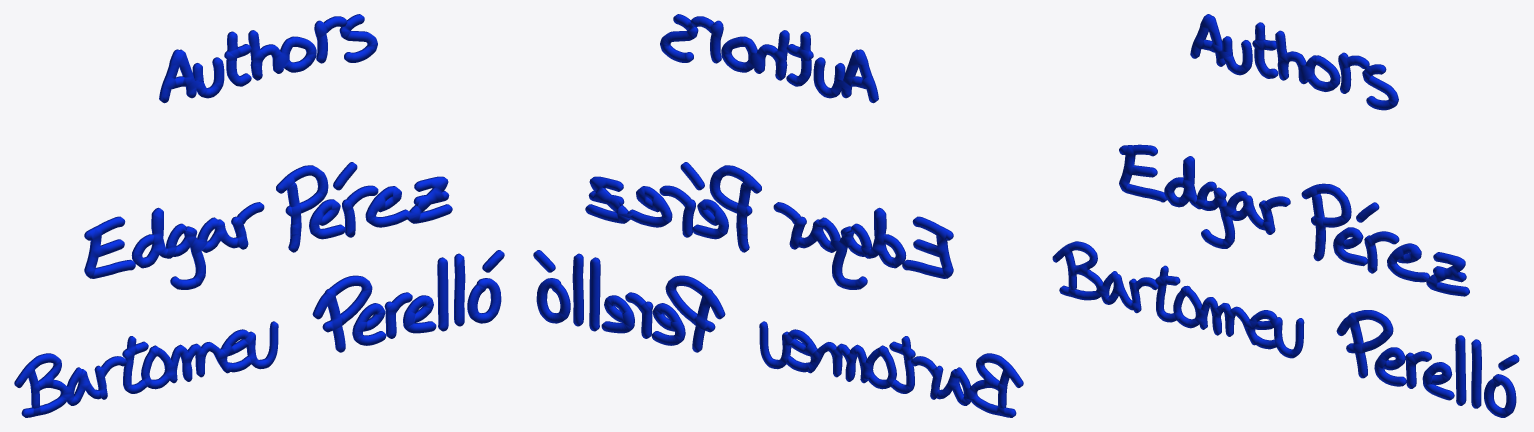
The picture shows the model from 3 angles, left to right: view 1: azimuth 30°, elevation 25°; view 2: azimuth 150°, elevation 25°; view 3: azimuth 330°, elevation 25°; orthographic projection. The views are drawn at different scales.
Parts seen in each view (by area): view 1: obj_0_obj_0_color_8768998; view 2: obj_0_obj_0_color_8768998; view 3: obj_0_obj_0_color_8768998.
Boxes of the visible parts, x1,y1,x2,y2 form: obj_0_obj_0_color_8768998: [14, 14, 504, 417]; obj_0_obj_0_color_8768998: [533, 14, 1023, 417]; obj_0_obj_0_color_8768998: [1052, 14, 1519, 417].
Size of the model in its own units: 121 by 83.02 by 1.
